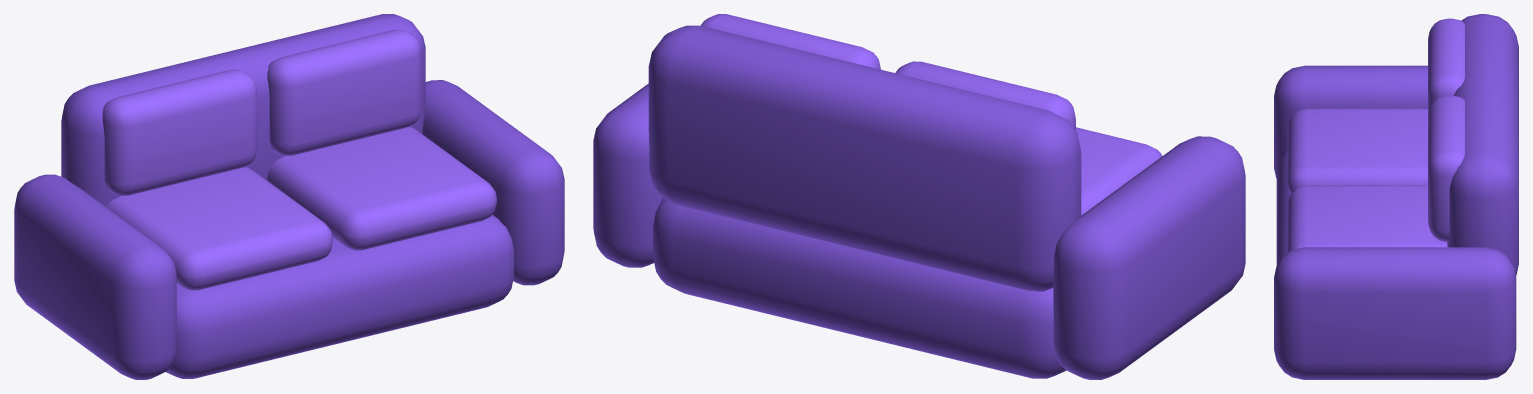
File: loveseat.glb
3 views of the same model, side by side, from view 1: azimuth 30°, elevation 25°; view 2: azimuth 150°, elevation 25°; view 3: azimuth 270°, elevation 25° (orthographic). The views are drawn at different scales.
Visible parts, largest first — view 1: Loveseat; view 2: Loveseat; view 3: Loveseat.
Part boxes in pixels (x1=…): Loveseat: x1=14, y1=14, x2=564, y2=379; Loveseat: x1=593, y1=14, x2=1245, y2=379; Loveseat: x1=1274, y1=14, x2=1518, y2=379.
Size of the model in its own units: 1.8 by 0.85 by 0.89.
